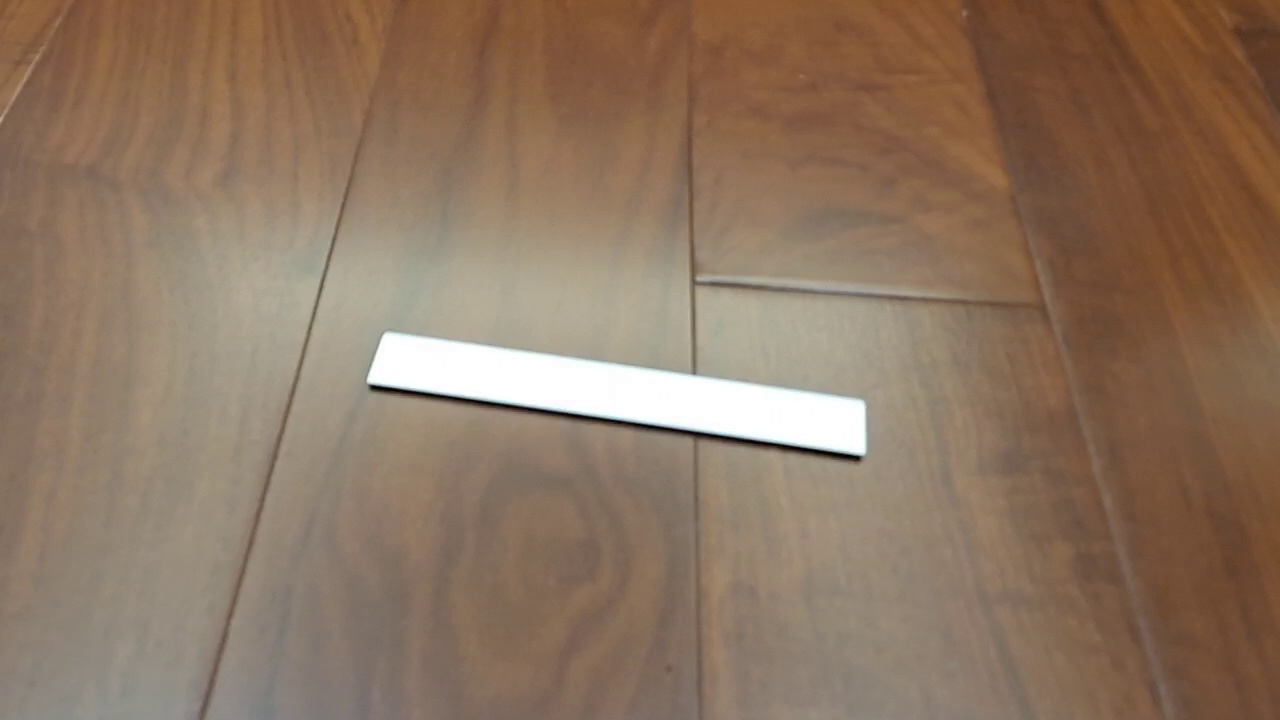ruler: (365, 329, 869, 461)
